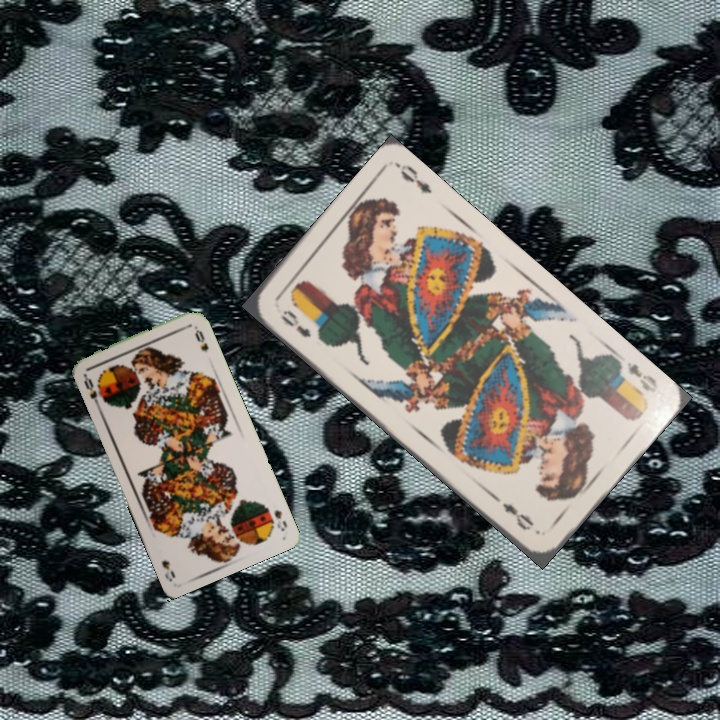EO: (623, 357, 661, 396), (276, 306, 314, 341)
SO: (79, 370, 102, 409), (270, 506, 290, 534)
